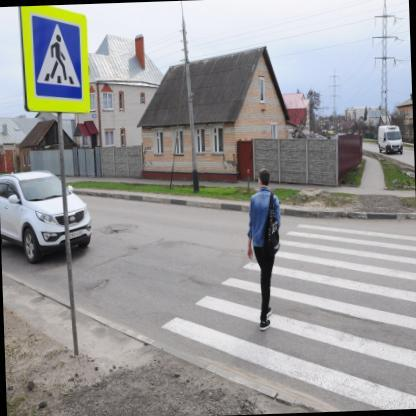road_sign: (20, 6, 89, 112)
